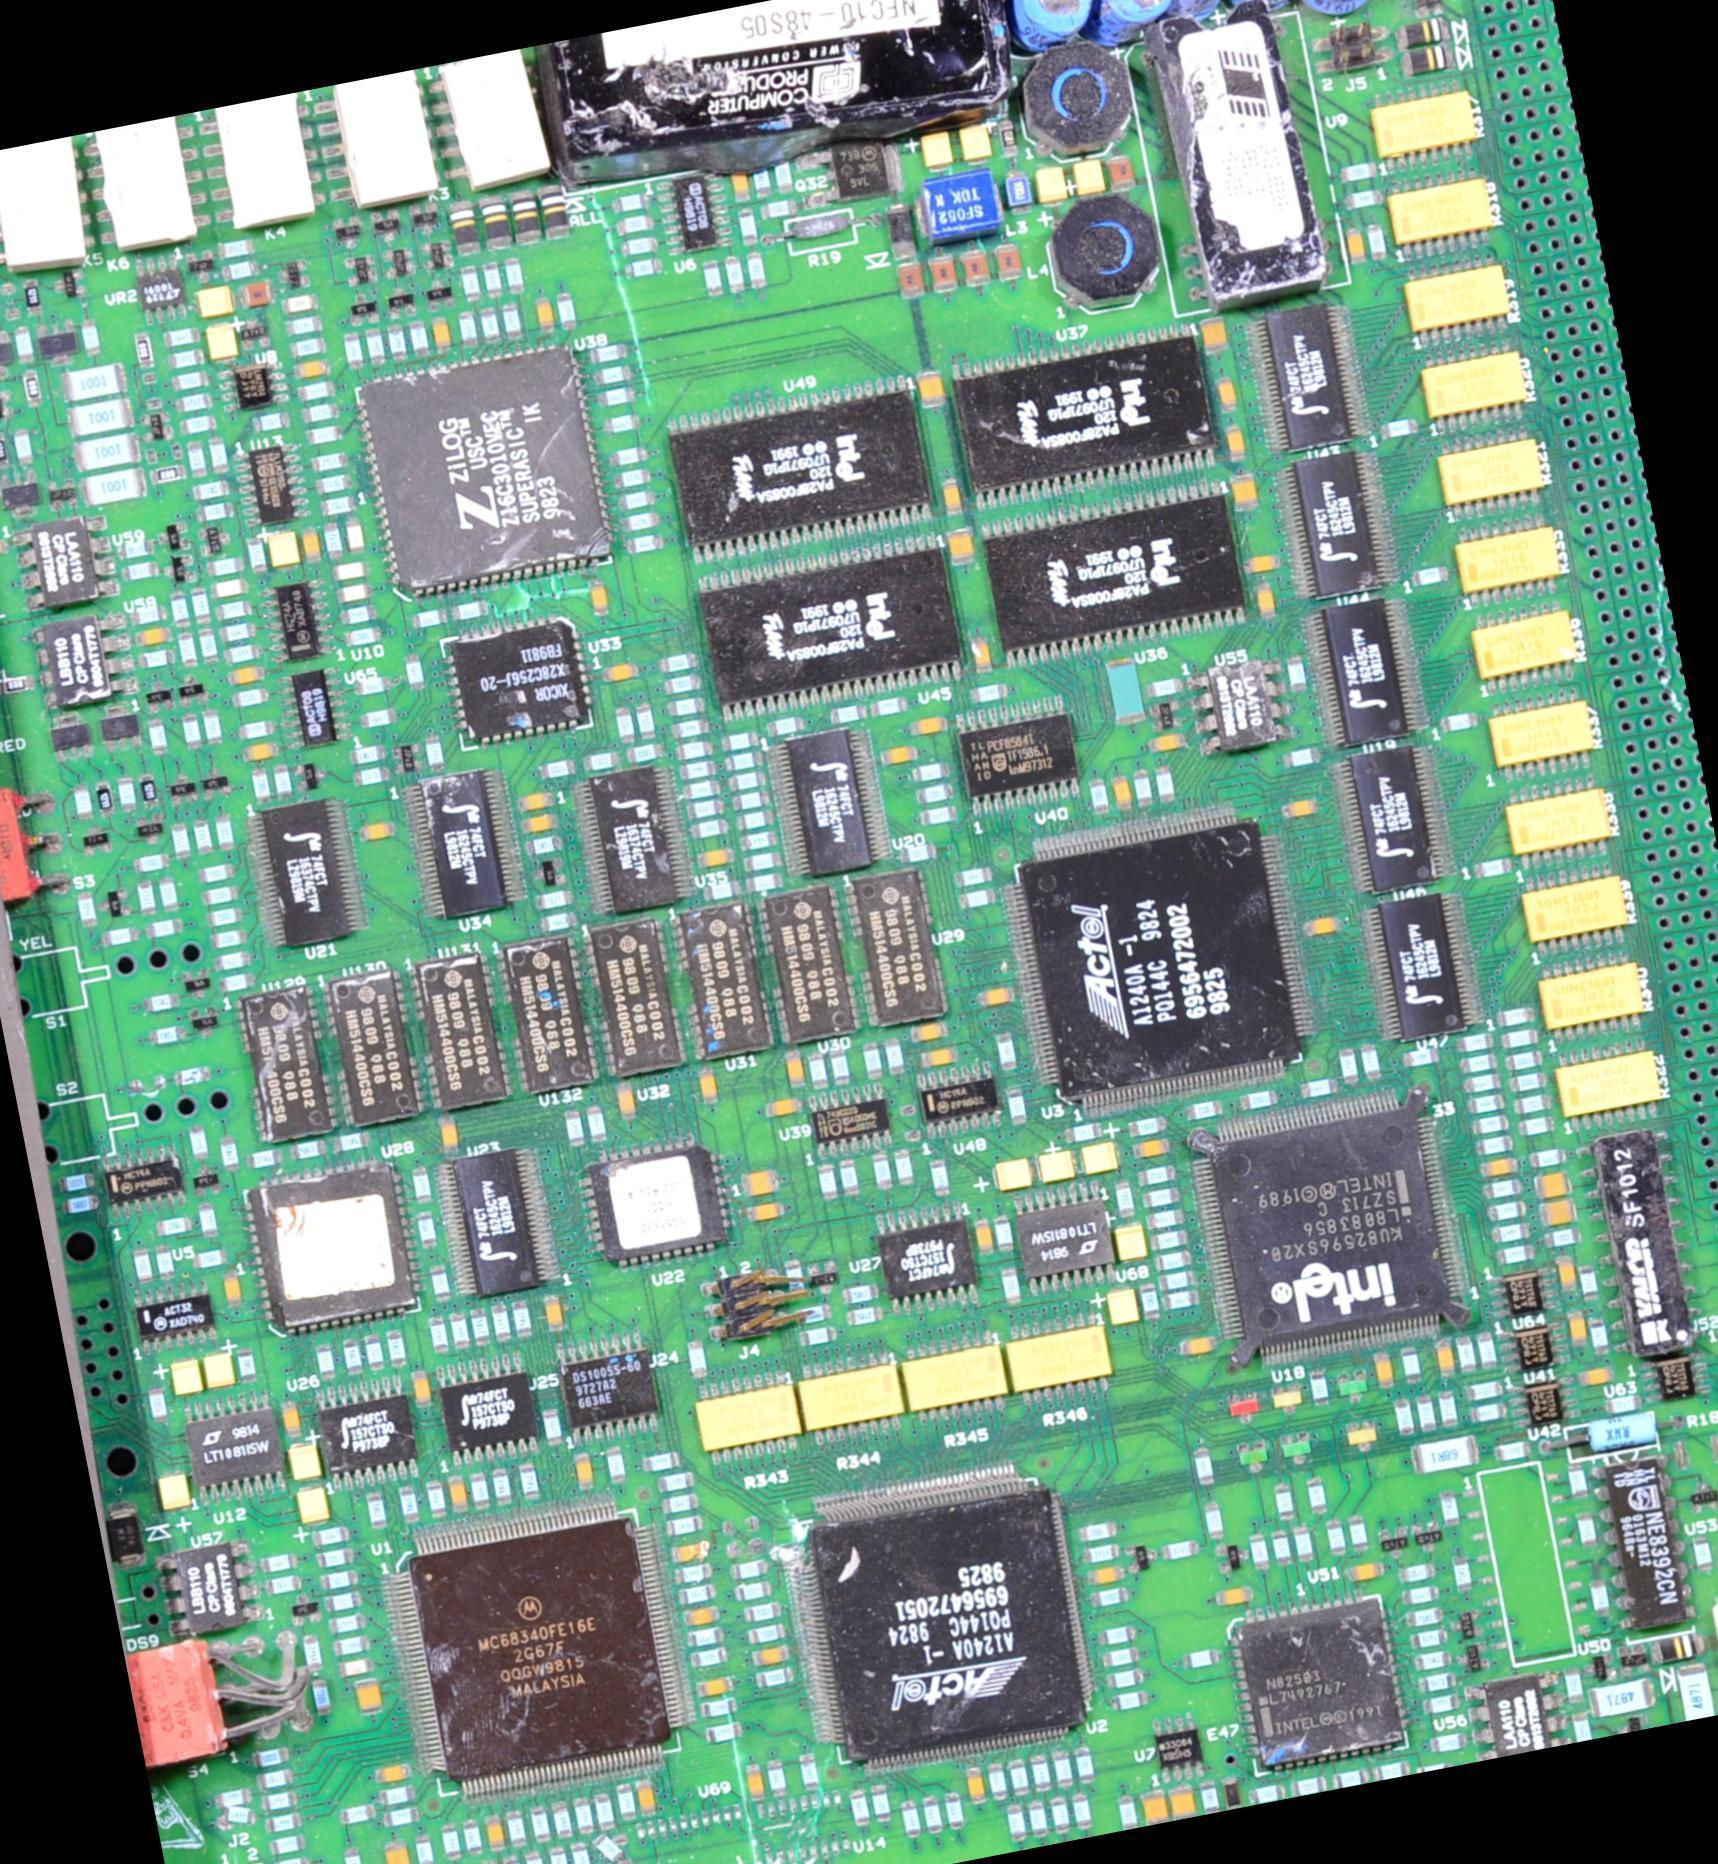Capacitor: (931, 257, 958, 291), (1127, 1134, 1163, 1157), (1142, 1790, 1166, 1825), (917, 371, 943, 402), (1232, 472, 1255, 508), (962, 251, 987, 283), (1217, 378, 1239, 413), (995, 246, 1016, 279), (1202, 319, 1223, 351), (1484, 1156, 1514, 1178), (1170, 1788, 1193, 1817), (1544, 1201, 1571, 1224), (1434, 1346, 1456, 1372), (1109, 160, 1132, 187), (279, 1403, 301, 1430), (1093, 1564, 1120, 1584), (1220, 1587, 1252, 1605), (445, 1478, 464, 1507), (953, 533, 973, 561), (1107, 776, 1127, 806), (578, 1454, 594, 1487), (1346, 226, 1363, 260), (533, 301, 550, 332), (971, 1767, 986, 1804), (901, 264, 920, 292), (745, 1769, 763, 1797), (749, 1173, 773, 1193), (980, 991, 1011, 1006), (913, 1025, 943, 1041), (224, 1272, 241, 1302), (542, 1299, 561, 1327), (753, 1647, 781, 1664), (245, 285, 268, 307), (231, 666, 255, 685), (1228, 430, 1246, 456), (592, 584, 608, 615), (1286, 801, 1314, 817), (619, 1084, 635, 1113), (701, 1070, 717, 1097), (1186, 1336, 1213, 1353), (1259, 589, 1274, 617), (364, 823, 391, 839), (1538, 1176, 1562, 1194), (296, 358, 320, 375), (785, 1058, 800, 1085), (414, 1373, 430, 1399), (1374, 1356, 1390, 1381), (886, 746, 913, 762), (974, 642, 992, 664), (1312, 919, 1337, 935), (770, 1097, 794, 1114), (637, 1786, 653, 1810), (1589, 1367, 1615, 1382), (1350, 1564, 1376, 1578), (488, 1816, 502, 1845), (731, 174, 746, 199), (931, 1046, 953, 1062), (680, 1541, 704, 1556), (303, 531, 318, 556), (608, 662, 632, 677), (433, 319, 446, 344), (1559, 1267, 1573, 1289), (363, 1683, 378, 1706), (702, 849, 724, 864), (387, 1844, 405, 1863), (443, 1119, 456, 1143), (1572, 1319, 1585, 1343), (692, 1608, 712, 1624), (947, 482, 960, 507), (919, 718, 940, 733), (977, 1227, 991, 1251), (702, 1680, 725, 1694), (380, 1767, 402, 1780), (251, 744, 271, 758), (1250, 558, 1274, 570), (755, 1204, 776, 1217), (144, 630, 162, 644), (1157, 738, 1176, 748), (532, 816, 547, 828), (530, 795, 545, 806)
IC: (1016, 821, 1302, 1104), (814, 1485, 1080, 1763), (403, 1509, 668, 1784), (1206, 1103, 1453, 1353), (360, 348, 606, 594), (1143, 8, 1328, 309), (695, 527, 961, 703), (950, 330, 1211, 496), (986, 491, 1245, 650), (669, 390, 923, 548), (1237, 1600, 1398, 1764), (253, 1173, 413, 1324), (1595, 1129, 1691, 1353), (445, 618, 594, 750), (842, 868, 943, 1025), (578, 766, 682, 911), (586, 918, 674, 1075), (674, 902, 763, 1055), (1295, 446, 1382, 600), (782, 732, 873, 874), (593, 1152, 713, 1256), (504, 938, 586, 1091), (242, 983, 327, 1131), (1372, 899, 1466, 1033), (263, 799, 349, 944), (758, 890, 845, 1033), (423, 957, 503, 1107), (1608, 1455, 1681, 1617), (1348, 752, 1435, 887), (335, 971, 414, 1119), (455, 1150, 535, 1292), (1263, 306, 1346, 442), (1325, 602, 1408, 738), (422, 773, 505, 907), (962, 717, 1071, 794), (878, 1216, 973, 1298), (1015, 1198, 1112, 1275), (187, 1408, 279, 1485), (441, 1374, 532, 1450), (317, 1397, 406, 1472), (170, 1540, 247, 1626), (560, 1352, 651, 1424), (1209, 664, 1280, 749), (34, 521, 98, 603), (1485, 1675, 1549, 1756), (49, 621, 110, 701), (274, 580, 323, 659), (812, 1100, 886, 1145), (293, 674, 338, 744), (677, 172, 720, 244), (251, 445, 290, 518), (924, 1085, 991, 1120), (230, 362, 275, 408), (1658, 1358, 1697, 1401), (1158, 1731, 1200, 1768), (1504, 1269, 1540, 1311), (1513, 1326, 1548, 1369), (145, 275, 179, 303)
Resistor: (692, 1379, 808, 1451), (1420, 348, 1525, 416), (804, 1363, 907, 1431), (903, 1341, 1006, 1408), (1386, 180, 1493, 245), (1453, 530, 1558, 593), (1441, 437, 1540, 501), (1489, 698, 1590, 762), (1008, 1327, 1109, 1389), (1528, 879, 1625, 941), (1558, 1056, 1660, 1116), (1371, 95, 1474, 154), (1412, 267, 1512, 326), (1506, 791, 1609, 848), (1473, 618, 1572, 674), (1543, 966, 1634, 1023), (1104, 663, 1146, 718), (788, 213, 842, 245), (1529, 1384, 1558, 1424), (220, 231, 254, 262), (996, 1031, 1016, 1068), (255, 407, 289, 430), (1129, 1111, 1164, 1132), (244, 537, 266, 570), (1143, 1282, 1163, 1320), (1152, 768, 1174, 799), (246, 768, 267, 801), (410, 1166, 429, 1200), (413, 1214, 435, 1243), (1049, 1794, 1068, 1829), (79, 319, 99, 352), (541, 1411, 562, 1440), (574, 1806, 594, 1834), (496, 306, 516, 334), (429, 1315, 446, 1350), (684, 1345, 703, 1375), (723, 258, 742, 289), (362, 330, 382, 360), (319, 524, 337, 556), (586, 750, 617, 769), (1011, 1088, 1030, 1121), (13, 327, 31, 359), (229, 687, 262, 704), (272, 763, 291, 795), (1286, 656, 1304, 688), (344, 604, 374, 624), (1132, 774, 1152, 803), (807, 1056, 825, 1086), (471, 1308, 488, 1340), (510, 1301, 528, 1331), (1029, 1758, 1047, 1789), (737, 209, 755, 241), (625, 744, 656, 761), (468, 1478, 489, 1504), (517, 1468, 536, 1496), (1565, 1671, 1582, 1703), (970, 685, 1002, 702), (1549, 1228, 1578, 1246), (1577, 1270, 1595, 1299), (1205, 1509, 1222, 1537), (749, 1604, 778, 1622), (870, 1790, 888, 1818), (1070, 1798, 1088, 1827), (184, 715, 201, 744), (171, 823, 188, 853), (831, 705, 861, 723), (294, 1139, 319, 1159), (741, 1579, 767, 1598), (451, 1315, 467, 1346), (1054, 1754, 1070, 1784), (905, 1805, 921, 1836), (1029, 1801, 1045, 1831), (426, 737, 442, 768), (1443, 714, 1475, 731), (747, 875, 778, 891), (882, 1043, 899, 1070), (1498, 1009, 1527, 1026), (1189, 1099, 1216, 1117), (1400, 1561, 1427, 1579), (616, 1792, 633, 1820), (504, 1814, 522, 1841), (357, 676, 385, 694), (528, 834, 555, 853), (1521, 1095, 1544, 1116), (597, 1838, 619, 1861), (832, 1050, 848, 1079), (1344, 1047, 1359, 1079), (1195, 1450, 1211, 1479), (463, 1817, 479, 1846), (767, 1766, 782, 1795), (990, 1766, 1007, 1796), (750, 254, 766, 283), (409, 612, 438, 628), (426, 1484, 443, 1510), (1439, 1396, 1456, 1422), (703, 1696, 729, 1715), (530, 1811, 547, 1837), (116, 780, 133, 806), (567, 1113, 581, 1143), (389, 325, 405, 356), (182, 631, 196, 663), (1414, 567, 1445, 582), (1360, 1046, 1377, 1073), (1506, 1030, 1533, 1045), (401, 1490, 417, 1518), (494, 1473, 510, 1500), (1476, 1338, 1493, 1365), (802, 1757, 818, 1784), (1009, 1762, 1024, 1790), (943, 1794, 960, 1822), (1257, 1785, 1285, 1800), (169, 329, 197, 346), (317, 453, 344, 469), (919, 785, 946, 800), (770, 197, 792, 216), (481, 268, 500, 291), (962, 863, 985, 882), (587, 1112, 604, 1137), (1166, 1542, 1191, 1560), (1106, 1627, 1130, 1644), (595, 343, 619, 360), (682, 744, 707, 761), (134, 1253, 150, 1282), (159, 1250, 173, 1279), (1005, 1270, 1019, 1299), (1161, 1252, 1190, 1267), (1609, 1396, 1638, 1411), (342, 523, 358, 552), (451, 602, 480, 617), (406, 660, 421, 688), (179, 1066, 204, 1083), (1478, 862, 1504, 878), (840, 1165, 855, 1191), (1532, 1151, 1558, 1167), (1306, 1482, 1322, 1508), (1295, 1529, 1312, 1555), (1418, 1654, 1444, 1670), (1008, 1808, 1024, 1834), (1574, 1715, 1589, 1741), (1368, 228, 1383, 253), (122, 538, 147, 554), (1382, 417, 1408, 433), (680, 722, 706, 738), (541, 762, 566, 777), (875, 697, 901, 712), (543, 912, 568, 928), (1154, 678, 1176, 698), (371, 1498, 388, 1521), (335, 559, 357, 576), (1291, 749, 1313, 767), (864, 1046, 879, 1074), (237, 1349, 252, 1377), (272, 1818, 301, 1833), (705, 264, 720, 293), (195, 591, 209, 618), (618, 713, 633, 741), (285, 298, 316, 312), (249, 1151, 273, 1168), (817, 1169, 833, 1193), (1304, 1081, 1329, 1097), (1146, 1165, 1170, 1182), (1252, 1540, 1268, 1564), (442, 1829, 458, 1852), (227, 261, 252, 277), (149, 921, 173, 937), (873, 1158, 889, 1184), (1117, 1184, 1130, 1213), (369, 1337, 381, 1365), (1503, 1248, 1529, 1263), (734, 1559, 760, 1574), (1278, 1490, 1293, 1516), (1327, 1525, 1342, 1550), (554, 1808, 569, 1835), (851, 1794, 866, 1820), (665, 656, 691, 670), (637, 707, 651, 733), (192, 824, 207, 849), (137, 854, 162, 869), (139, 884, 152, 913), (157, 1028, 179, 1046), (618, 446, 640, 464), (150, 648, 171, 665), (698, 804, 720, 821), (753, 851, 774, 868), (1155, 1213, 1177, 1229), (848, 1286, 870, 1302), (270, 1554, 292, 1570), (1312, 1374, 1329, 1397), (323, 479, 346, 495), (675, 697, 699, 713), (929, 807, 952, 823), (560, 297, 573, 325), (459, 316, 473, 345), (193, 1130, 208, 1155), (333, 1137, 357, 1152), (1472, 1381, 1497, 1396), (1083, 1524, 1108, 1539), (1077, 1755, 1091, 1779), (776, 165, 790, 190), (241, 725, 265, 740), (919, 763, 943, 777), (393, 1331, 405, 1363), (276, 1792, 295, 1810), (1250, 1091, 1271, 1107), (1498, 1205, 1520, 1221), (1503, 1444, 1525, 1459), (268, 1774, 289, 1791), (279, 1837, 300, 1852), (416, 1841, 432, 1863), (462, 274, 479, 295), (181, 370, 201, 386), (493, 1306, 507, 1332), (149, 1392, 163, 1417), (1352, 190, 1379, 203), (192, 446, 204, 473), (204, 713, 217, 739), (160, 883, 173, 909), (200, 1203, 211, 1232), (1463, 1035, 1485, 1049), (1410, 1049, 1433, 1064), (1068, 1127, 1092, 1141), (1171, 1293, 1194, 1307), (668, 1497, 690, 1512), (1460, 1343, 1474, 1366), (680, 1566, 703, 1580), (1092, 1544, 1114, 1558), (1350, 1523, 1364, 1546), (1113, 1671, 1135, 1686), (481, 310, 492, 340), (223, 952, 246, 966), (539, 894, 562, 909), (359, 747, 377, 765), (737, 754, 755, 771), (962, 891, 986, 905), (432, 1267, 445, 1291), (342, 1343, 356, 1367), (1485, 1136, 1505, 1153), (1164, 1275, 1188, 1287), (752, 1628, 776, 1642), (1444, 1494, 1456, 1518), (1426, 1676, 1450, 1688), (1381, 1763, 1404, 1776), (503, 261, 517, 285), (176, 350, 199, 363), (343, 336, 356, 361), (16, 435, 29, 460), (213, 444, 225, 468), (151, 722, 164, 747), (80, 897, 92, 920), (214, 909, 238, 923), (1089, 783, 1102, 807), (224, 975, 244, 990), (896, 1153, 907, 1180), (1480, 1119, 1501, 1134), (276, 1575, 297, 1589), (1477, 1406, 1499, 1420), (709, 1727, 731, 1742), (1191, 1649, 1212, 1664), (125, 564, 146, 578), (362, 770, 384, 784), (221, 932, 242, 947), (222, 1141, 234, 1167), (1150, 1188, 1172, 1202), (1525, 1120, 1547, 1134), (789, 1266, 802, 1289), (1157, 1236, 1181, 1248), (322, 1531, 344, 1544), (1699, 1543, 1712, 1566), (926, 1802, 937, 1828), (1438, 1737, 1462, 1751), (611, 417, 633, 431), (214, 558, 237, 572), (343, 587, 366, 600), (75, 790, 88, 814), (201, 865, 224, 879), (631, 237, 650, 253), (807, 1329, 826, 1345), (1595, 1322, 1605, 1351), (261, 1748, 281, 1764), (765, 1669, 785, 1683), (330, 499, 349, 513), (318, 1349, 330, 1374), (1398, 1404, 1409, 1429), (1418, 1402, 1429, 1425), (305, 1638, 317, 1662), (1455, 1562, 1467, 1586), (598, 1803, 609, 1826), (164, 1219, 185, 1232), (197, 1254, 217, 1266), (1468, 1057, 1489, 1070), (1517, 1076, 1537, 1090), (610, 1453, 623, 1474), (1203, 1787, 1216, 1809), (1339, 1773, 1360, 1786), (314, 433, 335, 446), (176, 597, 188, 618), (222, 600, 243, 613), (353, 629, 374, 642), (728, 734, 748, 747), (693, 782, 714, 796), (637, 260, 653, 276), (327, 1551, 344, 1566), (330, 1574, 347, 1588), (697, 1629, 714, 1643), (632, 494, 649, 508), (1581, 1516, 1593, 1539), (222, 1791, 245, 1802), (1121, 1800, 1132, 1823), (620, 199, 643, 211), (1344, 167, 1367, 178), (234, 646, 257, 657), (1471, 1078, 1490, 1091), (668, 1478, 687, 1490), (1595, 1587, 1608, 1606), (1419, 1630, 1439, 1643), (1121, 1696, 1140, 1709), (413, 326, 423, 353), (602, 389, 622, 403), (204, 632, 215, 658), (218, 817, 228, 842), (777, 720, 798, 733), (995, 1224, 1007, 1246), (1572, 1472, 1583, 1494), (1432, 1698, 1454, 1709), (756, 172, 768, 194), (201, 483, 223, 494), (687, 767, 708, 778), (906, 846, 927, 857), (933, 1164, 943, 1188), (809, 1306, 824, 1321), (1300, 1778, 1317, 1792), (188, 395, 205, 409), (1495, 1184, 1514, 1196), (651, 1456, 669, 1469), (1405, 1354, 1418, 1372), (345, 1640, 362, 1653), (308, 385, 327, 397), (606, 368, 624, 382), (219, 582, 237, 595), (1476, 1098, 1496, 1109), (1500, 1226, 1520, 1238), (674, 1518, 694, 1530), (345, 1660, 364, 1671), (1277, 1536, 1288, 1555), (1422, 1762, 1446, 1771), (367, 714, 387, 725), (575, 1848, 589, 1863), (744, 794, 759, 808), (749, 811, 764, 825), (339, 1616, 356, 1629), (1102, 1591, 1119, 1604), (349, 1805, 365, 1819), (298, 322, 315, 335), (626, 472, 643, 485), (632, 517, 648, 529), (696, 1654, 718, 1664), (687, 1586, 705, 1598), (1414, 1588, 1432, 1600), (113, 930, 131, 941), (234, 1809, 247, 1823), (390, 1788, 405, 1801), (393, 1811, 408, 1823), (189, 420, 208, 431), (230, 627, 246, 640), (153, 998, 168, 1011), (335, 1596, 351, 1608), (1112, 1652, 1129, 1663), (1420, 1610, 1436, 1622), (314, 407, 329, 419), (638, 536, 655, 547), (675, 679, 691, 690), (209, 507, 228, 517), (298, 345, 314, 356), (141, 609, 156, 621), (704, 825, 720, 836), (753, 836, 768, 847), (710, 883, 725, 895), (629, 217, 645, 228), (1518, 1054, 1532, 1065), (555, 1851, 568, 1863), (741, 774, 755, 785), (212, 890, 227, 899), (860, 1309, 873, 1319), (349, 1852, 361, 1863), (526, 1856, 542, 1863)
